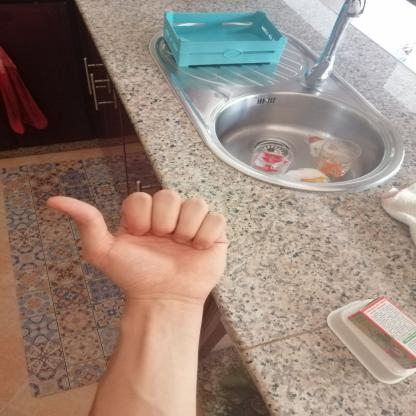DAD: (34, 182, 241, 309)
